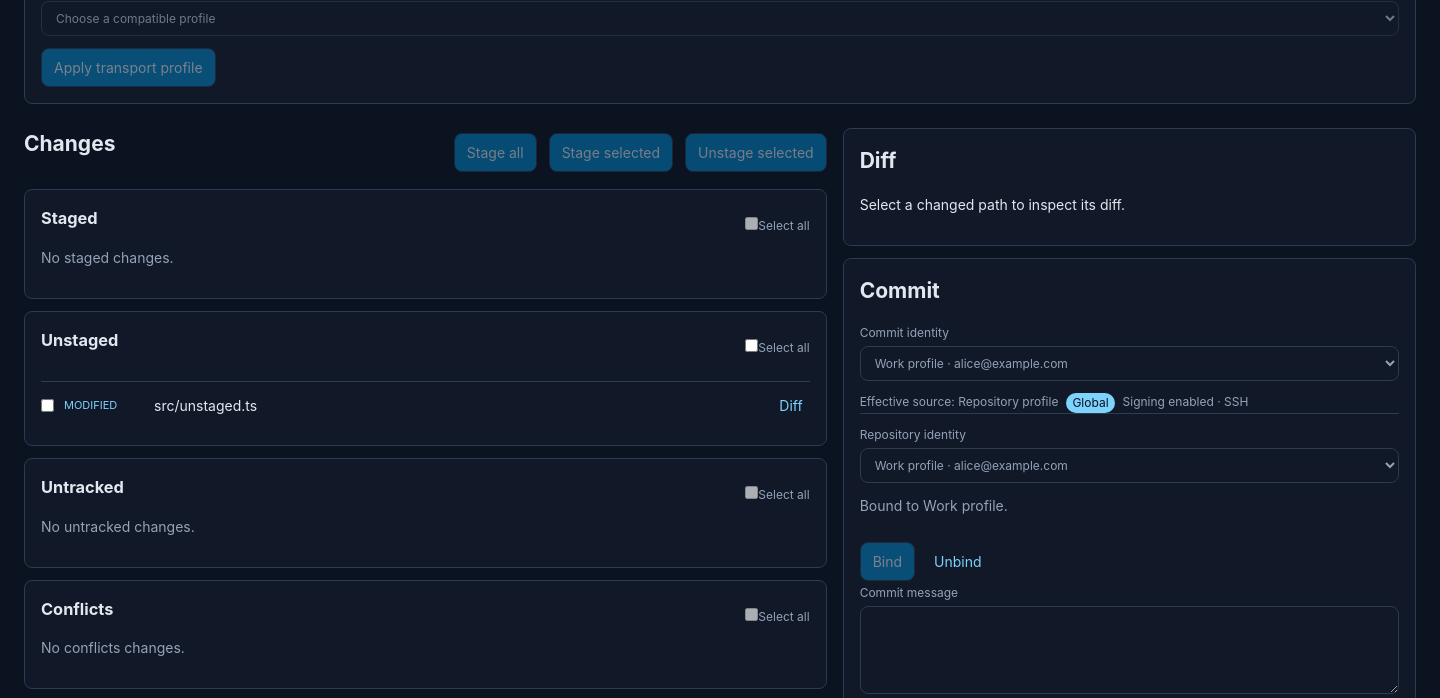
RepositoryView › shows a partial-content reason alongside an available patch
(page scrolled)
Click the button with aria-label "View diff for src/unstaged.ts": (791, 405) [772,390,810,421]
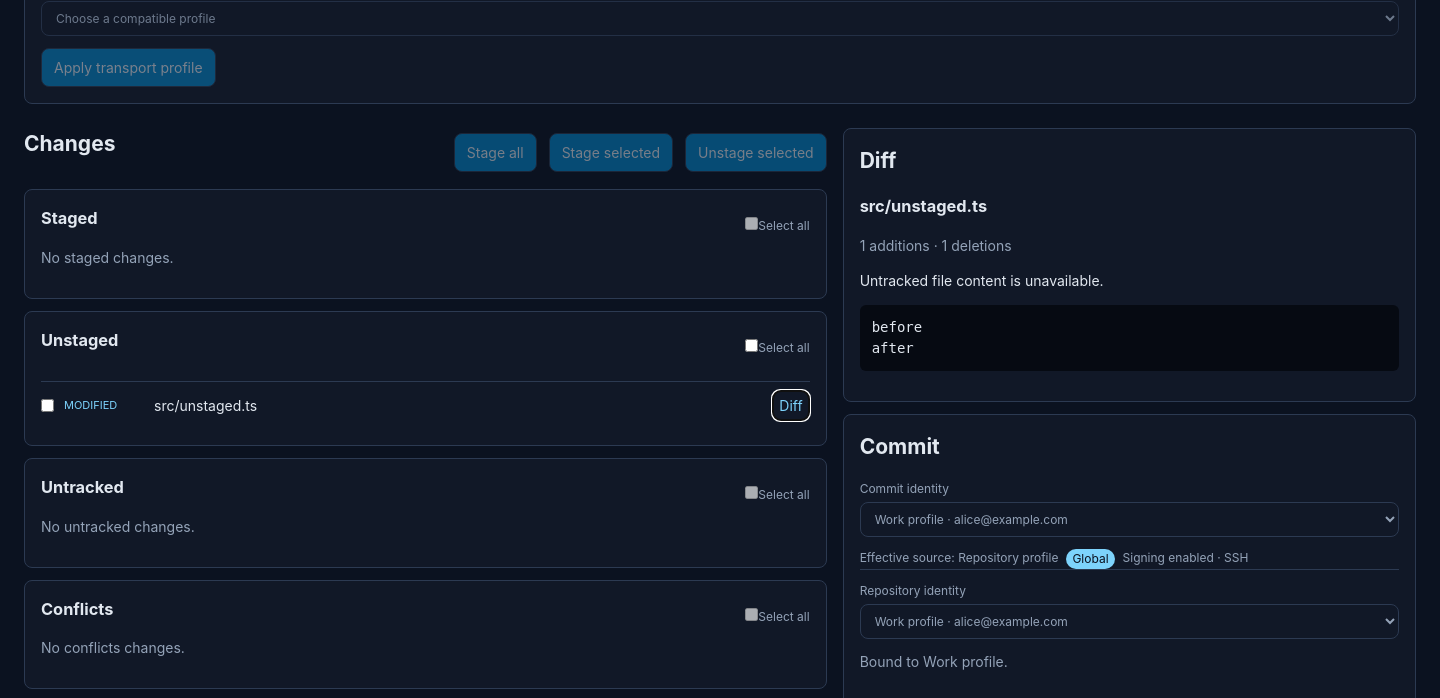
Now the text "Untracked file content is unavailable." is shown, box [860,272,1104,289]
